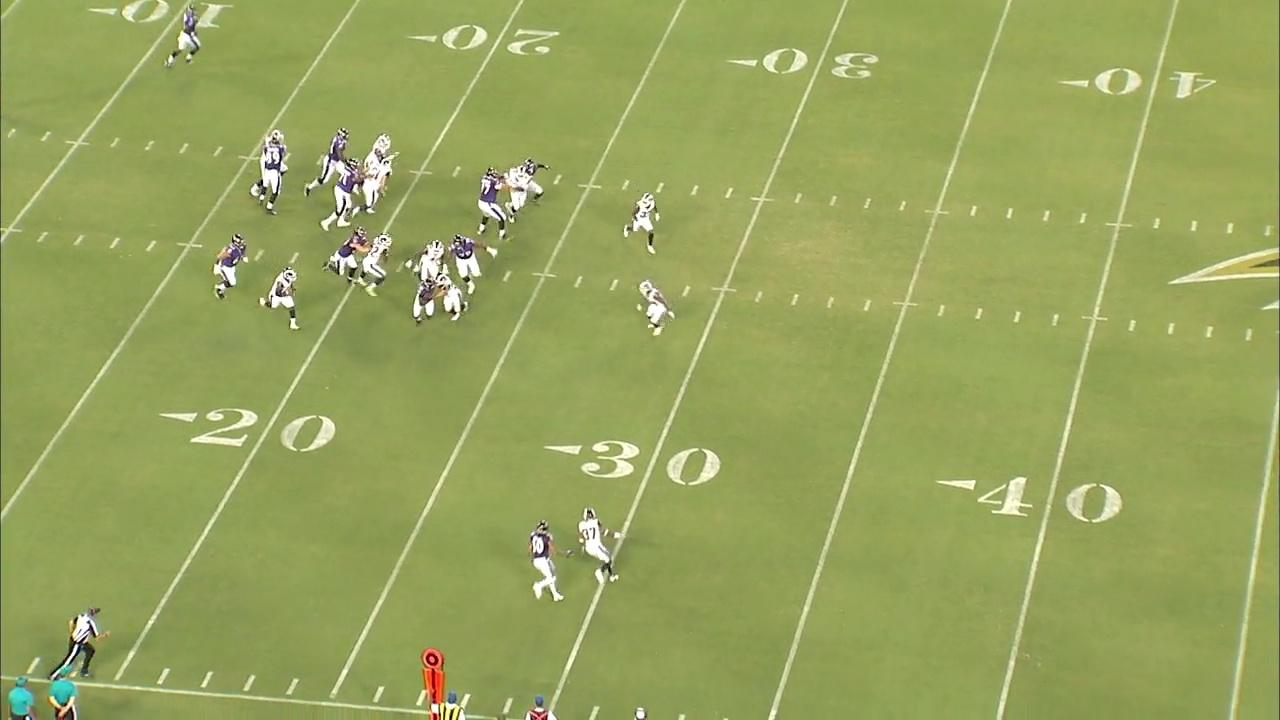marker: (421, 647, 448, 720)
number: (977, 473, 1126, 530), (189, 405, 341, 454), (582, 439, 723, 486), (759, 44, 881, 87), (1094, 63, 1220, 104), (442, 22, 565, 61)
